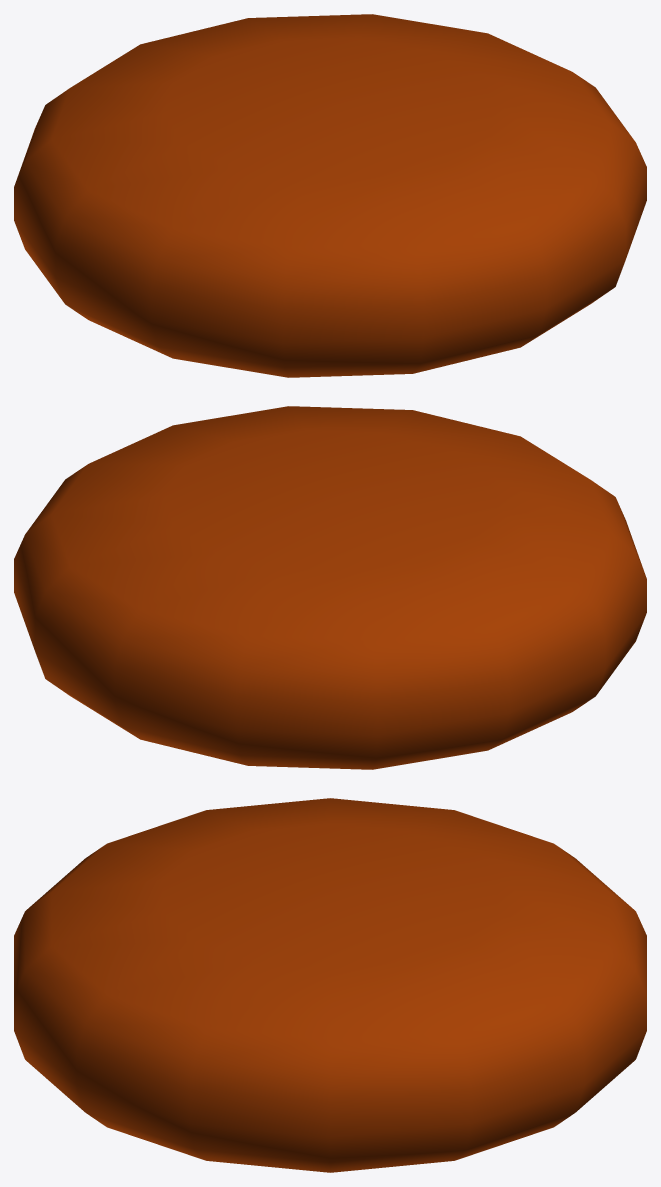
Rendered from Dragee Brown.fbx.
3 renders of one model, top to bottom at view 1: azimuth 30°, elevation 25°; view 2: azimuth 150°, elevation 25°; view 3: azimuth 270°, elevation 25°, orthographic. The views are drawn at different scales.
Parts seen in each view (by area): view 1: Dragee Brown; view 2: Dragee Brown; view 3: Dragee Brown.
Part boxes in pixels (bbox=[...]): Dragee Brown: bbox=[14, 14, 646, 377]; Dragee Brown: bbox=[14, 406, 646, 769]; Dragee Brown: bbox=[14, 798, 646, 1172].
Size of the model in its own units: 0.0851 by 0.0277 by 0.083.
